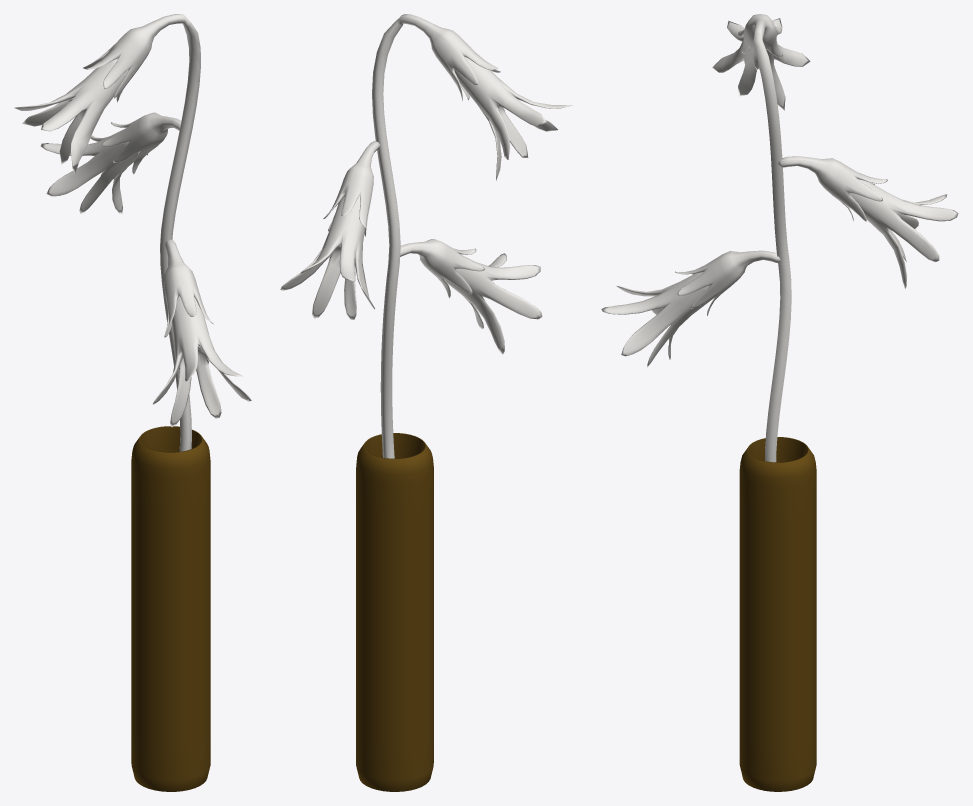
The model's file is LobeliaStatue.fbx.
3 views of the same model, side by side, from view 1: azimuth 30°, elevation 25°; view 2: azimuth 150°, elevation 25°; view 3: azimuth 270°, elevation 25° (orthographic). The views are drawn at different scales.
Visible parts, largest first — view 1: Cylinder, Cylinder.003; view 2: Cylinder, Cylinder.003; view 3: Cylinder, Cylinder.003.
Boxes of the visible parts, x1=… form: Cylinder: x1=131, y1=426, x2=210, y2=791; Cylinder.003: x1=14, y1=14, x2=251, y2=451; Cylinder: x1=356, y1=433, x2=433, y2=791; Cylinder.003: x1=280, y1=14, x2=572, y2=458; Cylinder: x1=739, y1=437, x2=816, y2=791; Cylinder.003: x1=601, y1=14, x2=958, y2=462.
Size of the model in its own units: 748 by 2891 by 1252.
